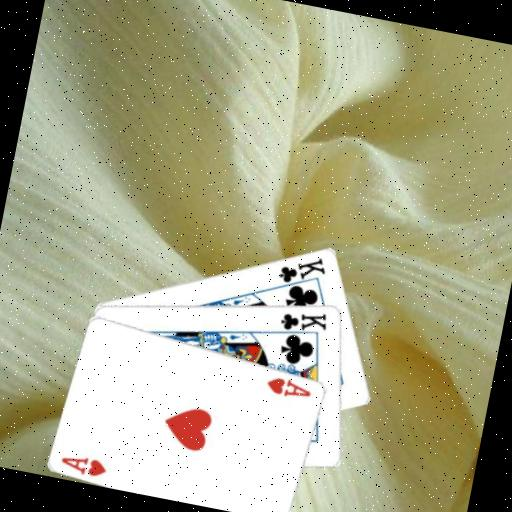AH: (56, 449, 110, 481), (263, 372, 315, 403)
KC: (274, 248, 330, 299), (273, 302, 332, 344)
